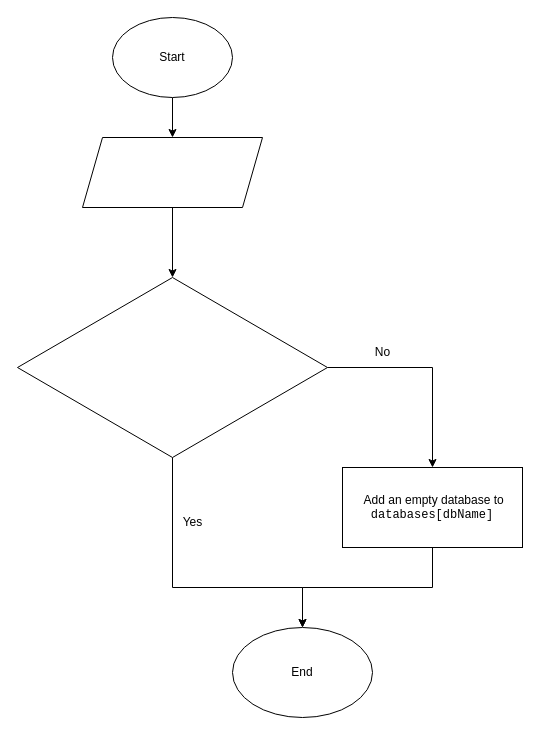
The diagram is 540 pixels wide and 735 high, and some of its shapes have lost their labels. The shapes that lost their labels are listed below. From the top down, each one's box as (x1, y1, x2, y2) in pixels, then its label:
(82, 136, 262, 208): Input dbName
(16, 276, 328, 458): Check if dbName exists in databases: dbName in databases?
